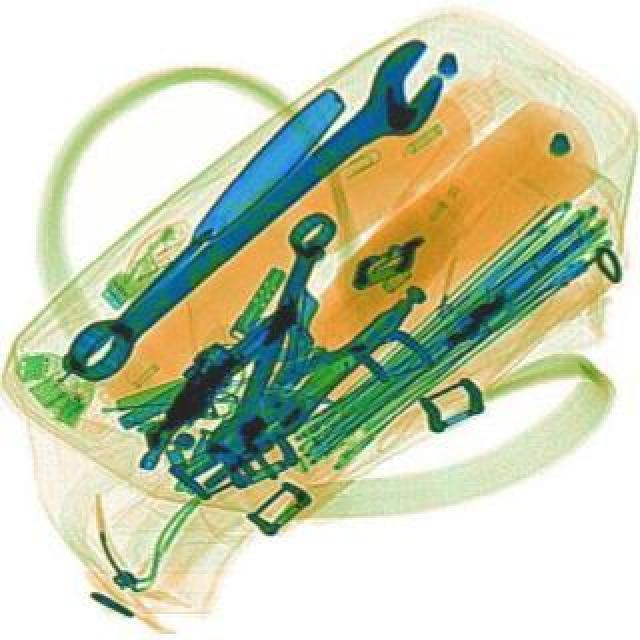gun: (132, 284, 296, 490)
knife: (38, 82, 352, 394)
scissors: (38, 30, 468, 400), (204, 206, 338, 466)
